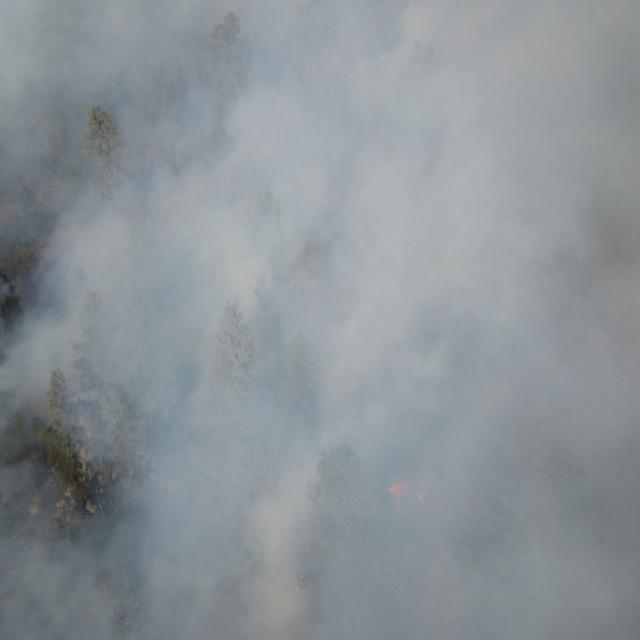fire: (384, 471, 429, 512), (24, 110, 41, 134)
smoke: (1, 0, 640, 640)
